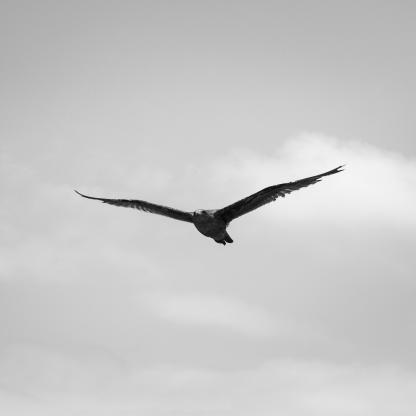bird: (74, 165, 345, 247)
